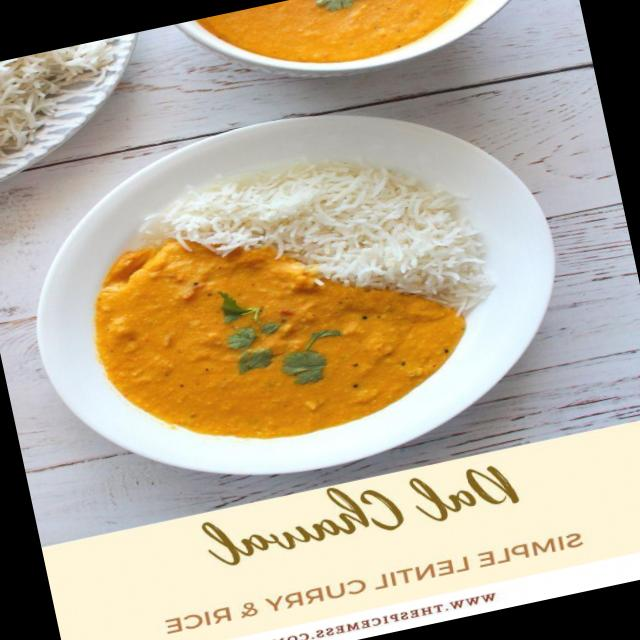dal: (99, 242, 469, 437), (198, 0, 466, 62)
rice: (133, 161, 485, 318)
